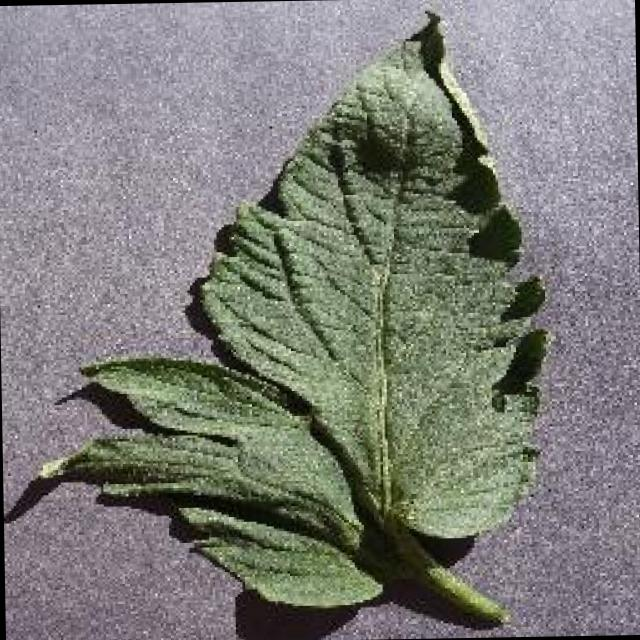Tomato_Healthy: (46, 18, 581, 612)
